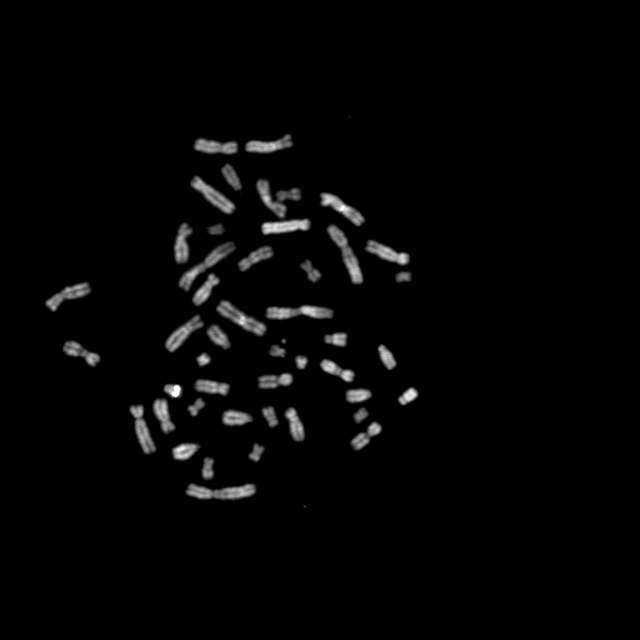chromosome: (178, 242, 236, 292), (328, 225, 362, 285), (217, 300, 266, 336), (191, 176, 235, 214), (166, 314, 204, 352), (322, 192, 364, 226), (46, 282, 90, 312), (130, 406, 156, 454), (258, 180, 286, 218), (366, 240, 408, 264), (62, 341, 100, 367), (266, 306, 334, 320), (186, 484, 254, 498), (246, 134, 292, 154), (192, 274, 220, 306), (238, 246, 274, 270), (352, 422, 382, 450), (196, 137, 237, 157), (321, 358, 355, 382), (154, 398, 176, 434), (284, 408, 306, 442), (174, 224, 192, 262), (262, 220, 310, 234), (195, 378, 229, 396), (258, 372, 292, 388), (300, 260, 322, 284), (207, 325, 229, 349), (222, 410, 254, 426), (222, 164, 240, 190), (173, 444, 200, 461), (379, 344, 395, 370), (398, 388, 418, 404), (276, 189, 302, 201), (346, 390, 372, 402), (324, 333, 346, 347), (264, 407, 278, 428), (248, 444, 264, 462), (162, 383, 182, 397), (202, 458, 214, 480), (395, 270, 413, 284), (190, 398, 204, 416), (355, 408, 369, 426), (208, 225, 226, 235), (270, 346, 284, 358), (197, 354, 211, 366), (296, 356, 308, 369)
